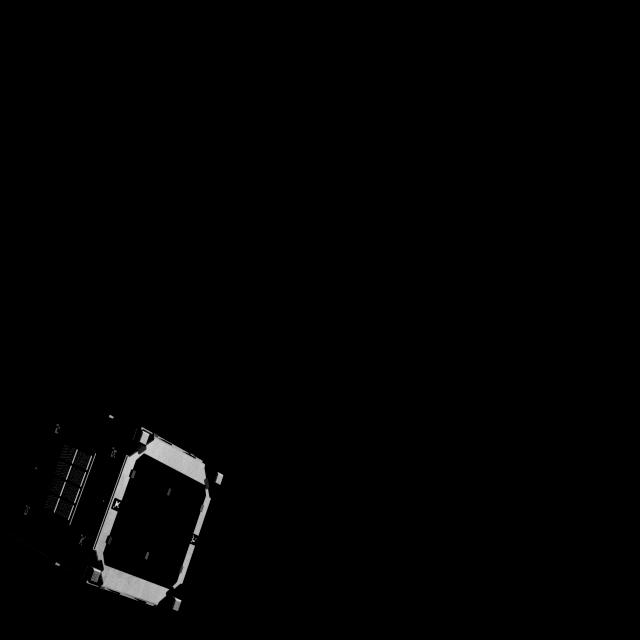satellite: (0, 388, 226, 614)
